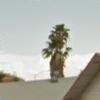Tree: (29, 16, 85, 65)
